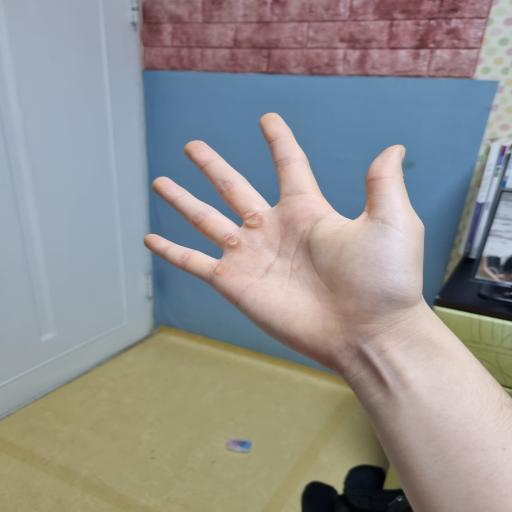Paper: (144, 112, 444, 363)
